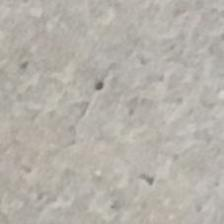Non_Crack: (109, 21, 224, 215)
